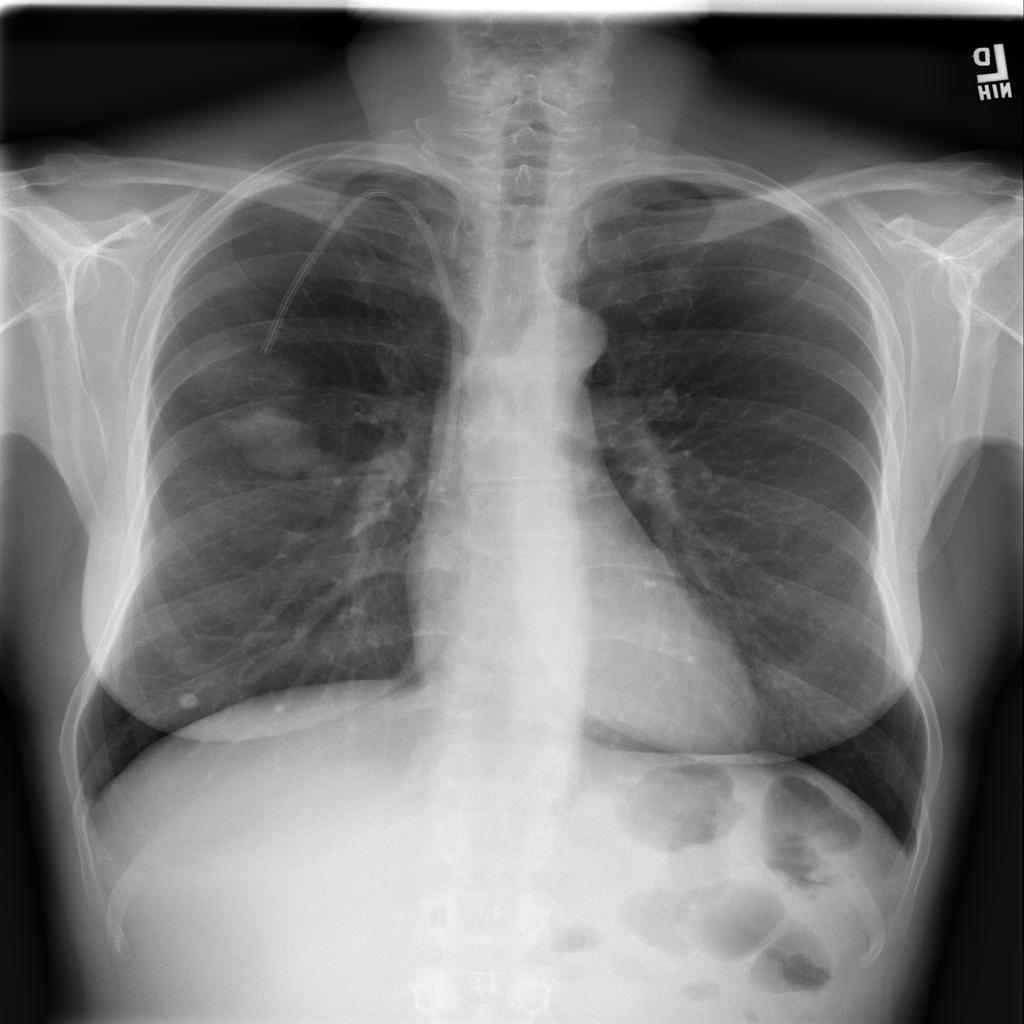nodule: (202, 383, 338, 486), (746, 643, 821, 708), (173, 690, 208, 716)
